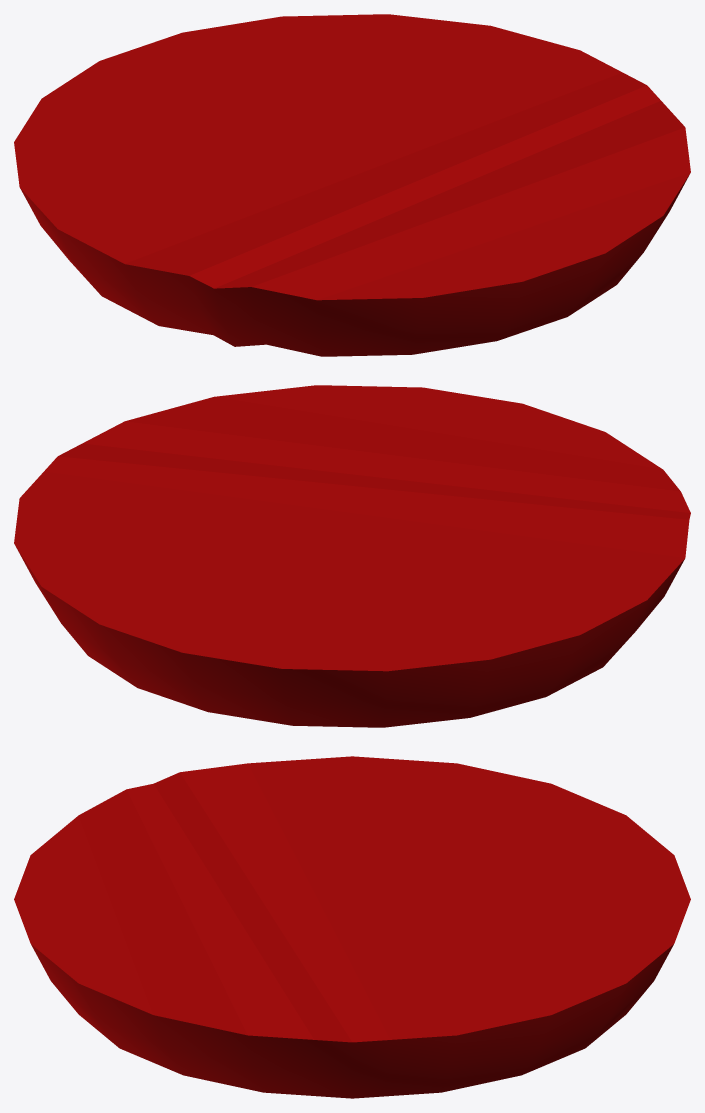
File: TomaSlice6.fbx
3 views of the same model, one above another, from view 1: azimuth 30°, elevation 25°; view 2: azimuth 150°, elevation 25°; view 3: azimuth 270°, elevation 25° (orthographic).
Parts seen in each view (by area): view 1: TomatoSlice6; view 2: TomatoSlice6; view 3: TomatoSlice6.
Boxes of the visible parts, x1,y1,x2,y2 form: TomatoSlice6: (14, 14, 690, 356); TomatoSlice6: (14, 385, 690, 727); TomatoSlice6: (14, 756, 690, 1098).
Bounding box in the file's own units: 1.9 × 0.2582 × 1.9.
